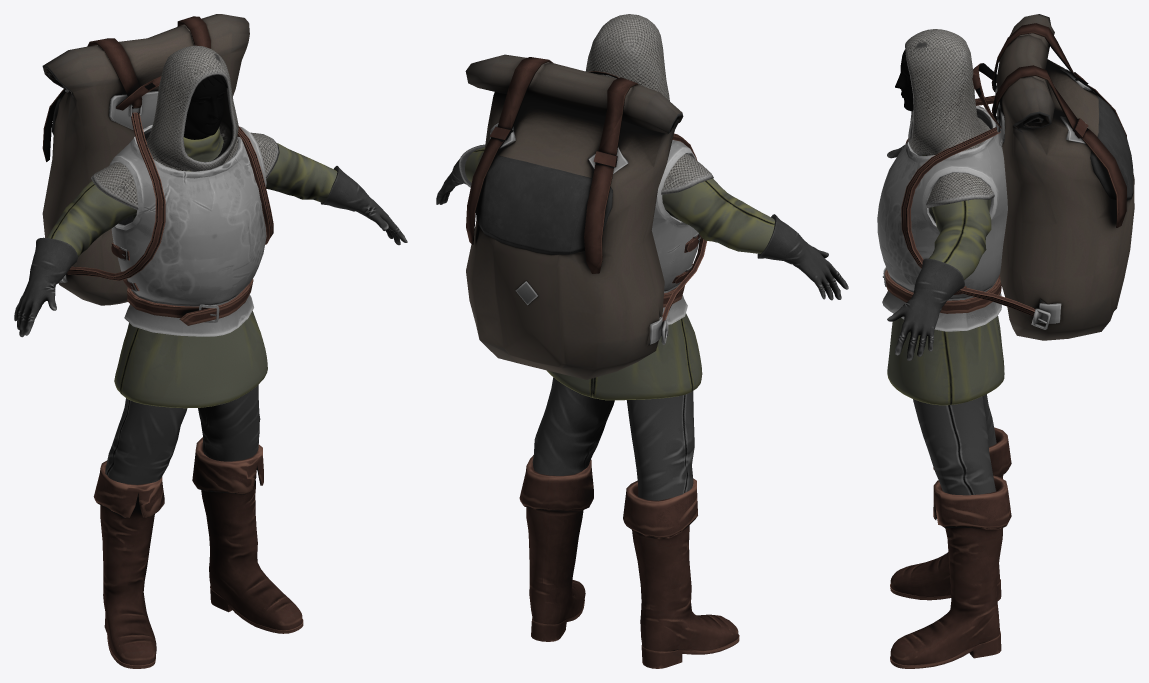
Rendered from Squire_Knight.fbx.
The picture shows the model from 3 angles, left to right: view 1: azimuth 30°, elevation 25°; view 2: azimuth 150°, elevation 25°; view 3: azimuth 270°, elevation 25°; orthographic projection. The views are drawn at different scales.
Visible parts, largest first — view 1: Squire_Knight; view 2: Squire_Knight; view 3: Squire_Knight.
Part boxes in pixels (left/top/right/bottom): Squire_Knight: left=14, top=14, right=407, bottom=668; Squire_Knight: left=436, top=14, right=848, bottom=668; Squire_Knight: left=877, top=14, right=1134, bottom=668.
Bounding box in the file's own units: 105 × 153 × 60.15.
